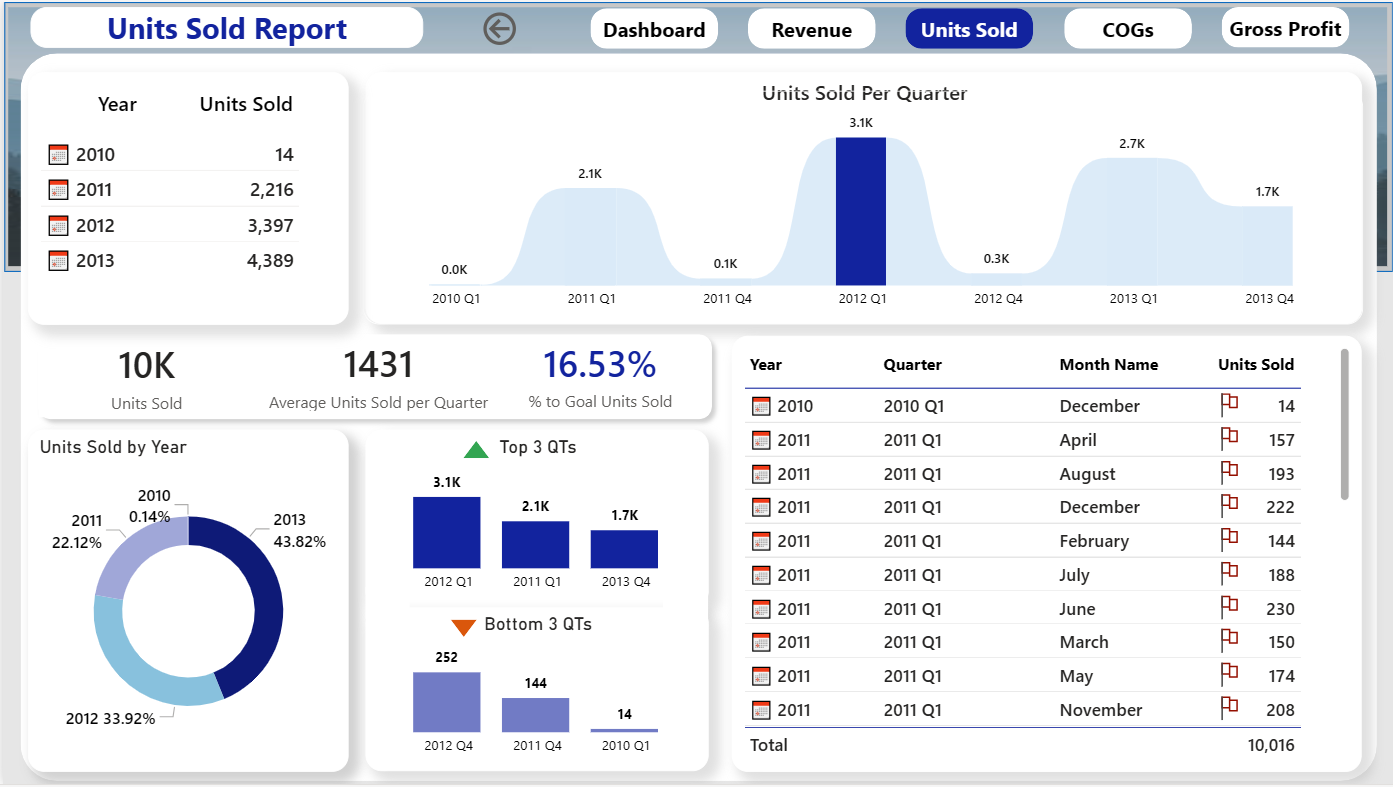

The dashboard page shown, as its layout file describes it:
{"tool":"powerbi","page":{"name":"Units Sold","canvas":[1280,720],"ordinal":2},"visuals":[{"type":"group","id":"g1","title":"Image","box":[0,0,1280,248.8],"z":0},{"type":"image","box":[0,0,1279.2,248.8],"z":0,"group":"g1"},{"type":"actionButton","title":"Dashboard Button","box":[541.1,5.9,117.5,37.4],"z":0,"group":"g4"},{"type":"ribbonChart","title":"Units Sold Per Quarter","fields":{"Category":["Calendar.Quarter"],"Y":["_Measures.Units Sold"]},"box":[333.8,65,917.7,232.3],"z":0,"group":"g3"},{"type":"columnChart","title":"Top 3 QTs","fields":{"Category":["Calendar.Quarter"],"Y":["_Measures.Units Sold"]},"box":[333.8,393.8,316.2,163.6],"z":0,"group":"g2"},{"type":"shape","box":[1.3,0,1278.7,248.6],"z":1000,"group":"g1"},{"type":"actionButton","title":"Revenue Button","box":[686.3,6,117.5,37.4],"z":1000,"group":"g4"},{"type":"shape","box":[16,47,1249,670],"z":1000},{"type":"columnChart","title":"Column","fields":{"Category":["Calendar.Quarter"],"Y":["_Measures.Units Sold"]},"box":[331.8,82.2,920.4,215.1],"z":1000,"group":"g3"},{"type":"columnChart","title":"Bottom 3 QTs","fields":{"Category":["Calendar.Quarter"],"Y":["_Measures.Units Sold"]},"box":[333.8,557.7,316.2,151.1],"z":1000,"group":"g2"},{"type":"actionButton","title":"Units Sold Button","box":[831.6,6.1,117.5,37.4],"z":2000,"group":"g4"},{"type":"donutChart","fields":{"Category":["Calendar.Year"],"Y":["_Measures.Units Sold"]},"box":[22.5,393.8,295,315],"z":2000},{"type":"shape","box":[423.3,404,24.4,16.2],"z":2000,"group":"g2"},{"type":"actionButton","title":"Gross Profit Button","box":[1122,4.8,117.5,37.4],"z":3000,"group":"g4"},{"type":"group","id":"g2","title":"Small Columns","box":[333.8,393.8,316.2,315],"z":3000},{"type":"shape","box":[411.7,568.9,24.4,16.2],"z":3000,"group":"g2"},{"type":"actionButton","title":"COGs Button","box":[976.8,6.1,117.5,37.4],"z":4000,"group":"g4"},{"type":"group","id":"g3","title":"New Chart","box":[331.8,65,920.4,232.3],"z":4000},{"type":"shape","box":[608.2,545.4,41.5,30],"z":4000,"group":"g2"},{"type":"shape","title":"Shape for cards","box":[22.5,297.5,638.8,96.2],"z":5000},{"type":"shape","title":"White Block","box":[333.8,538.9,40.7,30],"z":5000,"group":"g2"},{"type":"tableEx","fields":{"Values":["Calendar.Year with icon","Calendar.Quarter","Calendar.Month Name","_Measures.Units Sold"]},"box":[670.8,306.9,580.2,401.9],"z":6000},{"type":"card","fields":{"Values":["_Measures.Units Sold"]},"box":[33.8,306.2,198.8,76.2],"z":7000},{"type":"card","fields":{"Values":["_Measures.Avg Units Sold"]},"box":[233.7,308.2,225.1,74.6],"z":8000},{"type":"card","fields":{"Values":["_Measures.% to Goal Units Sold"]},"box":[458.8,308.8,182.5,73.8],"z":9000},{"type":"tableEx","fields":{"Values":["Calendar.Year with icon","_Measures.Units Sold"]},"box":[22.5,65,295,232.5],"z":10000},{"type":"group","id":"g4","title":"Group 1","box":[541.1,4.8,698.5,38.7],"z":11000},{"type":"actionButton","box":[437,4.8,43.6,39.9],"z":12000},{"type":"textbox","box":[25.4,4.8,361.9,37.5],"z":13000}]}

Visuals, with their boxes in screenshot pixels (x1, y1, x2, y2), scaled from the page's 1280x720 canvas onto the 1393x787 screenshot:
"Image" group: x1=0, y1=0, x2=1392, y2=272
image: x1=0, y1=0, x2=1392, y2=272
"Dashboard Button" actionButton: x1=589, y1=6, x2=717, y2=47
"Units Sold Per Quarter" ribbonChart: x1=363, y1=71, x2=1362, y2=325
"Top 3 QTs" columnChart: x1=363, y1=430, x2=707, y2=609
shape: x1=1, y1=0, x2=1392, y2=272
"Revenue Button" actionButton: x1=747, y1=7, x2=875, y2=47
shape: x1=17, y1=51, x2=1377, y2=784
"Column" columnChart: x1=361, y1=90, x2=1363, y2=325
"Bottom 3 QTs" columnChart: x1=363, y1=610, x2=707, y2=775
"Units Sold Button" actionButton: x1=905, y1=7, x2=1033, y2=48
donutChart - Calendar.Year x _Measures.Units Sold: x1=24, y1=430, x2=346, y2=775
shape: x1=461, y1=442, x2=487, y2=459
"Gross Profit Button" actionButton: x1=1221, y1=5, x2=1349, y2=46
"Small Columns" group: x1=363, y1=430, x2=707, y2=775
shape: x1=448, y1=622, x2=475, y2=640
"COGs Button" actionButton: x1=1063, y1=7, x2=1191, y2=48
"New Chart" group: x1=361, y1=71, x2=1363, y2=325
shape: x1=662, y1=596, x2=707, y2=629
"Shape for cards" shape: x1=24, y1=325, x2=720, y2=430
"White Block" shape: x1=363, y1=589, x2=408, y2=622
tableEx - Calendar.Year with icon x Calendar.Quarter: x1=730, y1=335, x2=1361, y2=775
card - _Measures.Units Sold: x1=37, y1=335, x2=253, y2=418
card - _Measures.Avg Units Sold: x1=254, y1=337, x2=499, y2=418
card - _Measures.% to Goal Units Sold: x1=499, y1=338, x2=698, y2=418
tableEx - Calendar.Year with icon x _Measures.Units Sold: x1=24, y1=71, x2=346, y2=325
"Group 1" group: x1=589, y1=5, x2=1349, y2=48
actionButton: x1=476, y1=5, x2=523, y2=49
textbox: x1=28, y1=5, x2=421, y2=46
